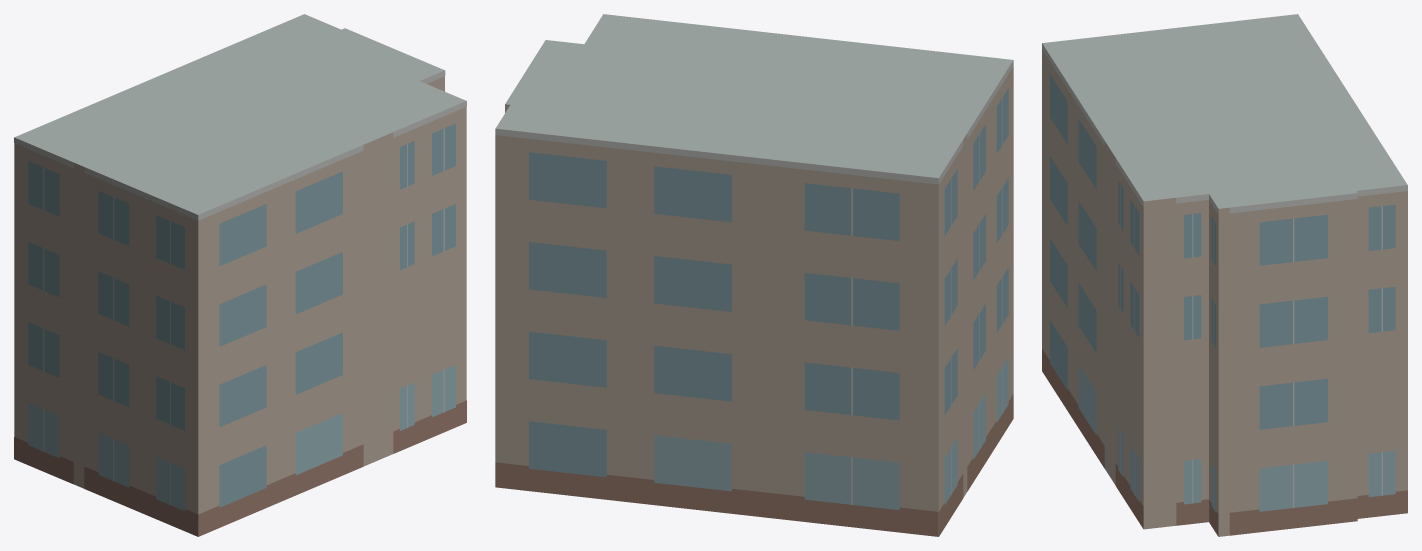
Rendered from survey-upis-33017337.glb.
The picture shows the model from 3 angles, left to right: view 1: azimuth 30°, elevation 25°; view 2: azimuth 150°, elevation 25°; view 3: azimuth 270°, elevation 25°; orthographic projection. The views are drawn at different scales.
Visible parts, largest first — view 1: survey-upis-33017337.tmp; view 2: survey-upis-33017337.tmp; view 3: survey-upis-33017337.tmp.
Part boxes in pixels (x1=…): survey-upis-33017337.tmp: x1=14, y1=14, x2=466, y2=536; survey-upis-33017337.tmp: x1=495, y1=14, x2=1013, y2=536; survey-upis-33017337.tmp: x1=1042, y1=14, x2=1407, y2=536.
Size of the model in its own units: 17.47 by 13.71 by 13.86.
